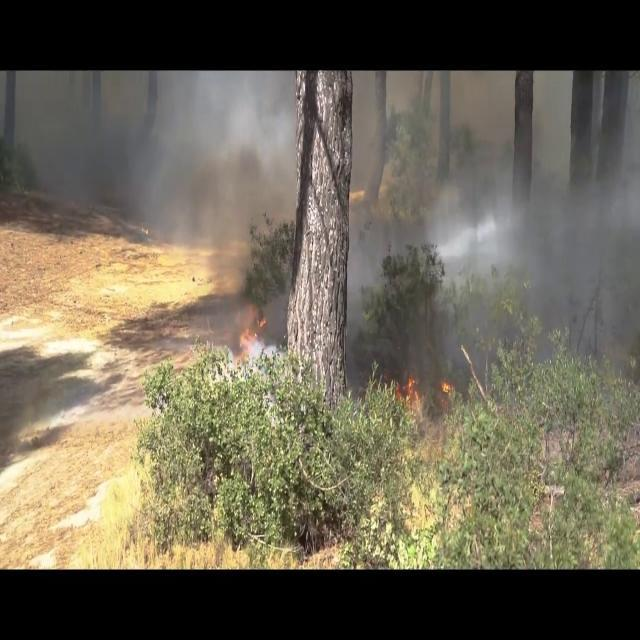Smoke: (352, 70, 640, 364), (0, 70, 314, 247)
